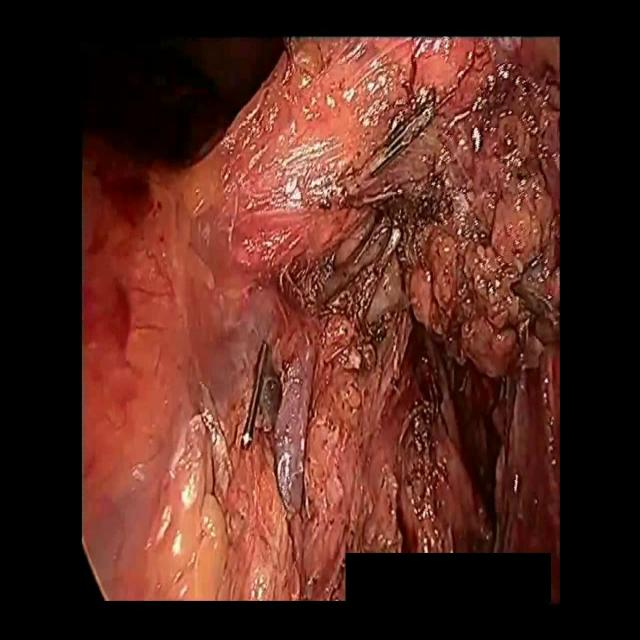surgical-area: (82, 36, 562, 603)
